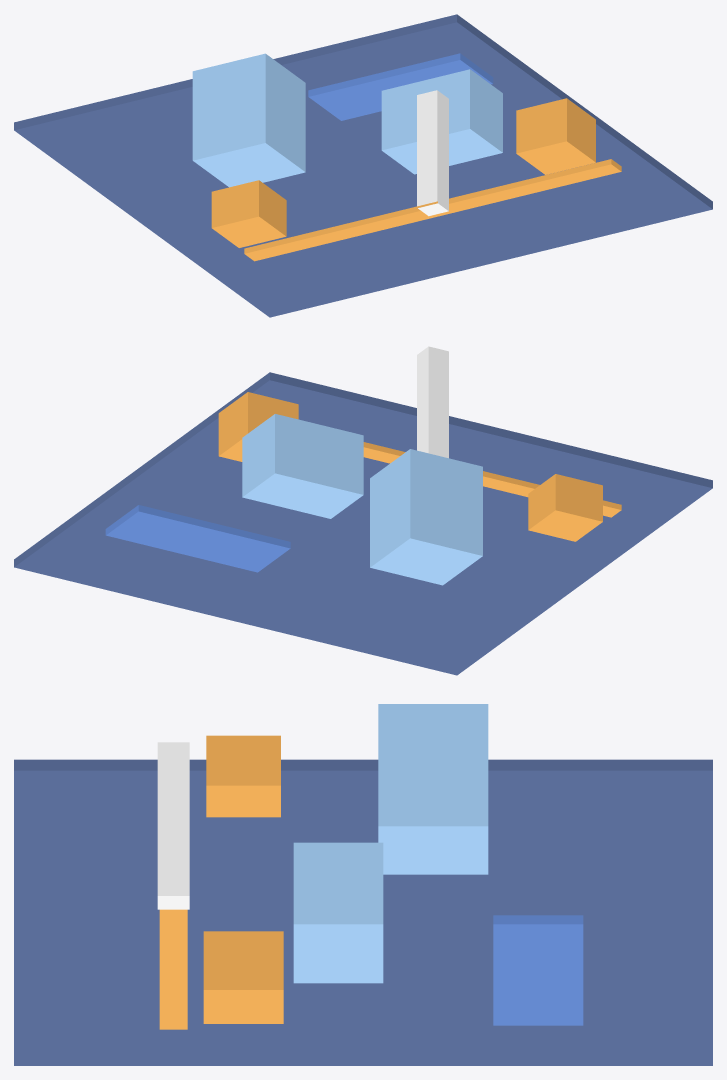
Rendered from public-works.glb.
The picture shows the model from 3 angles, top to bottom: view 1: azimuth 30°, elevation 25°; view 2: azimuth 150°, elevation 25°; view 3: azimuth 270°, elevation 25°; orthographic projection. The views are drawn at different scales.
Parts seen in each view (by area): view 1: environment floor, main structure, secondary structure, route layer, context block b, environment plane, context block a, observation marker; view 2: environment floor, main structure, secondary structure, environment plane, context block a, observation marker, context block b, route layer; view 3: environment floor, main structure, secondary structure, environment plane, context block b, context block a, observation marker, route layer.
Part boxes in pixels (bbox=[...]): environment floor: bbox=[14, 14, 712, 317]; main structure: bbox=[192, 53, 305, 187]; secondary structure: bbox=[381, 69, 502, 174]; route layer: bbox=[244, 159, 621, 261]; context block b: bbox=[516, 98, 595, 174]; environment plane: bbox=[308, 53, 493, 120]; context block a: bbox=[211, 180, 286, 247]; observation marker: bbox=[417, 90, 448, 216]; environment floor: bbox=[14, 372, 712, 675]; main structure: bbox=[370, 449, 482, 585]; secondary structure: bbox=[242, 414, 363, 518]; environment plane: bbox=[105, 505, 290, 572]; context block a: bbox=[528, 474, 602, 541]; observation marker: bbox=[417, 346, 448, 458]; context block b: bbox=[218, 392, 298, 461]; route layer: bbox=[363, 442, 621, 517]; environment floor: bbox=[14, 759, 712, 1065]; main structure: bbox=[378, 704, 488, 874]; secondary structure: bbox=[293, 842, 383, 983]; environment plane: bbox=[493, 915, 583, 1025]; context block b: bbox=[203, 931, 283, 1023]; context block a: bbox=[206, 735, 280, 817]; observation marker: bbox=[157, 742, 189, 909]; route layer: bbox=[159, 909, 187, 1029].
Bounding box in the file's own units: 7 × 1.87 × 7.
